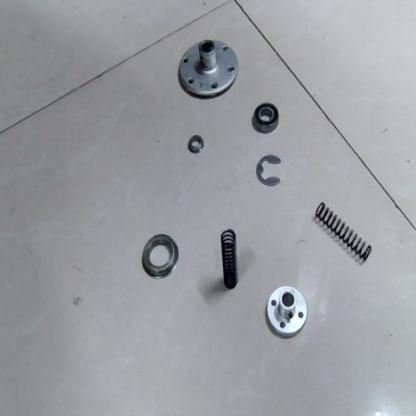FOD: (175, 31, 239, 100), (313, 197, 376, 264), (265, 284, 312, 337), (140, 231, 182, 280), (217, 227, 241, 296), (252, 151, 284, 188), (250, 100, 282, 135), (186, 132, 206, 156)
